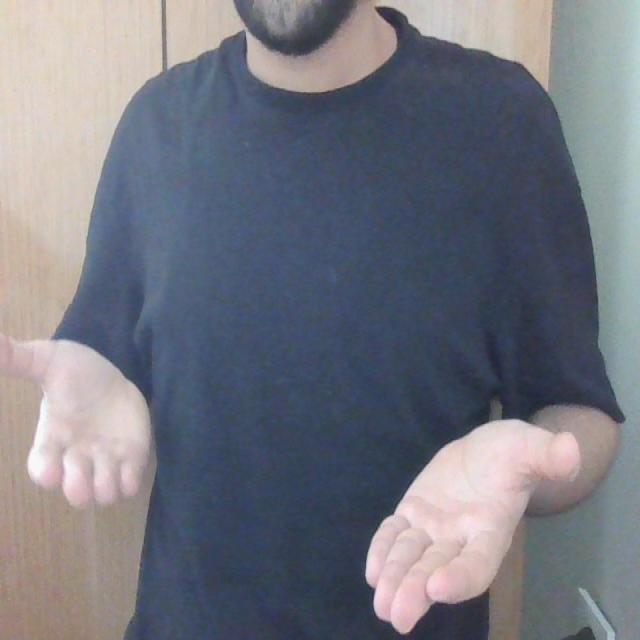Evet: (0, 322, 583, 638)
